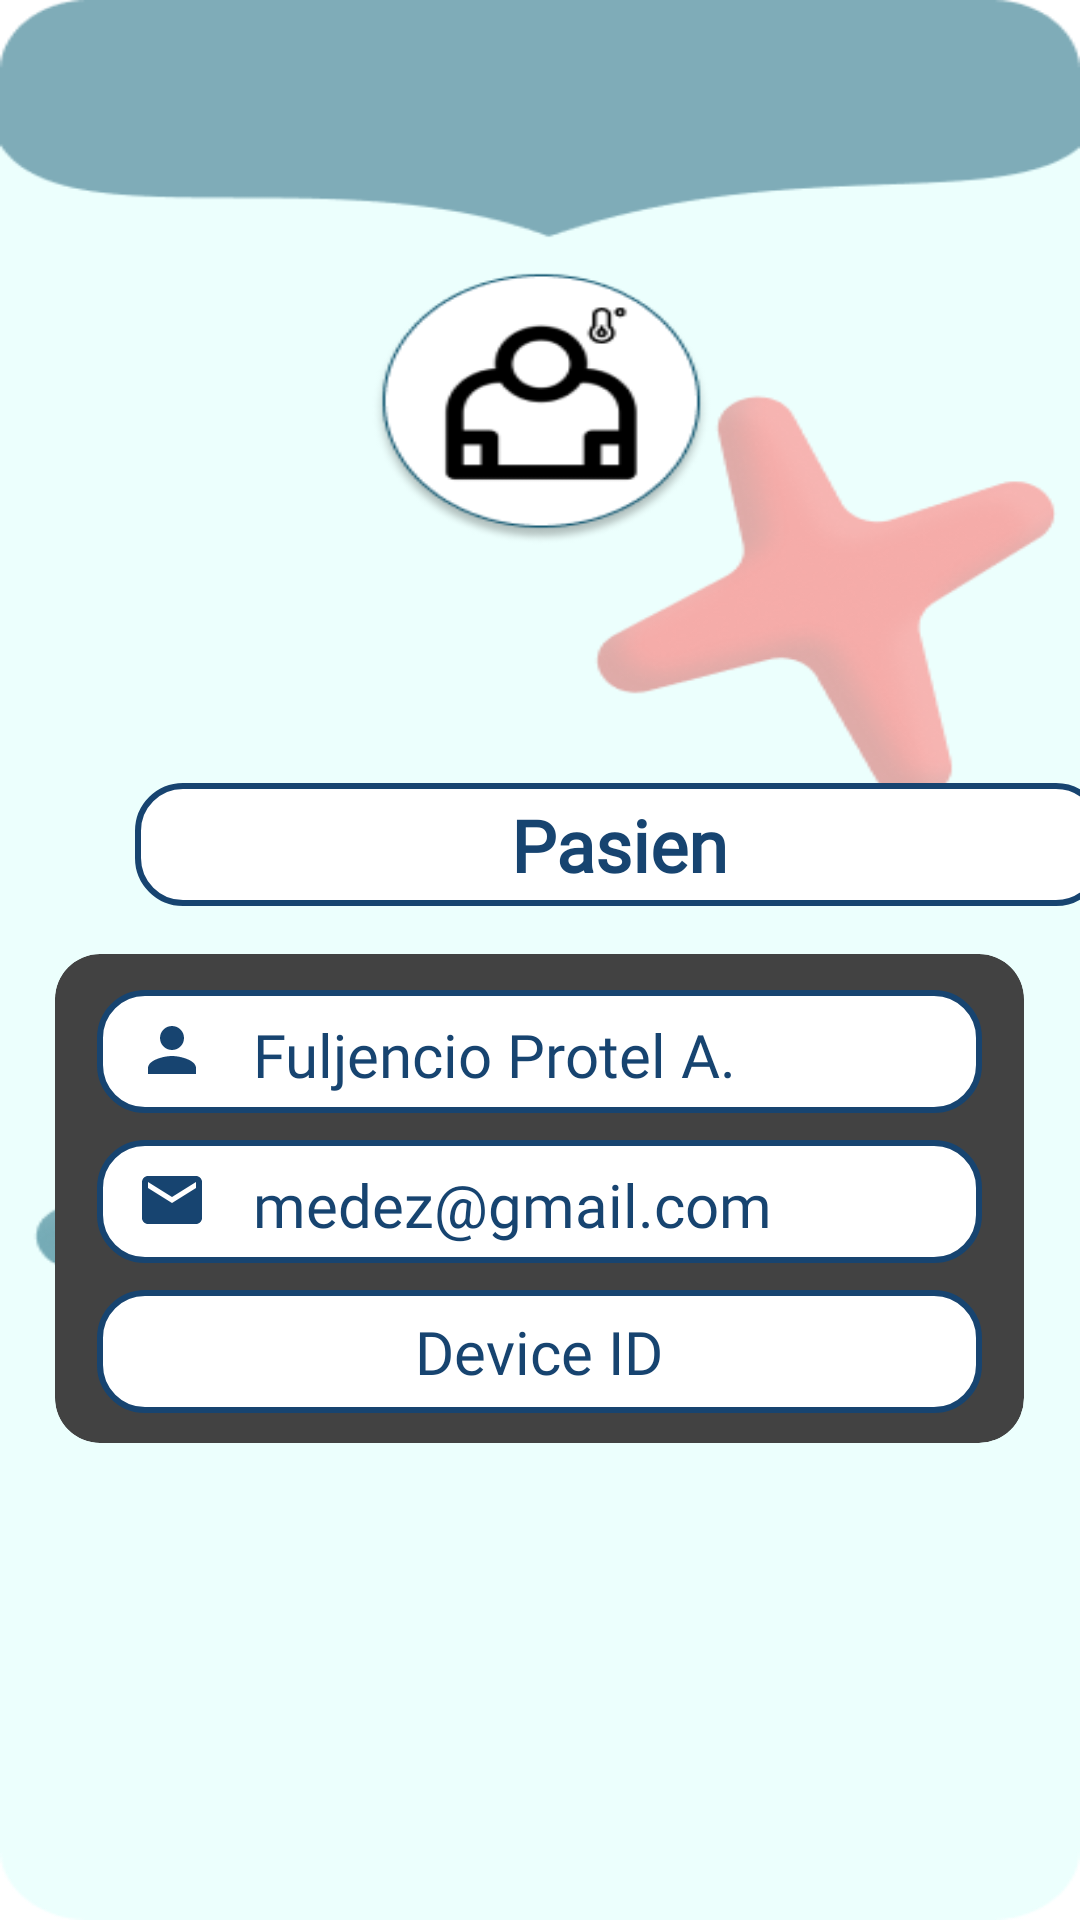

Screen size 1080 x 1920. Icon name, then its box in pixels as (x1, y1, x2, y2):
email: (142, 1176, 202, 1224)
person: (148, 1026, 196, 1074)
